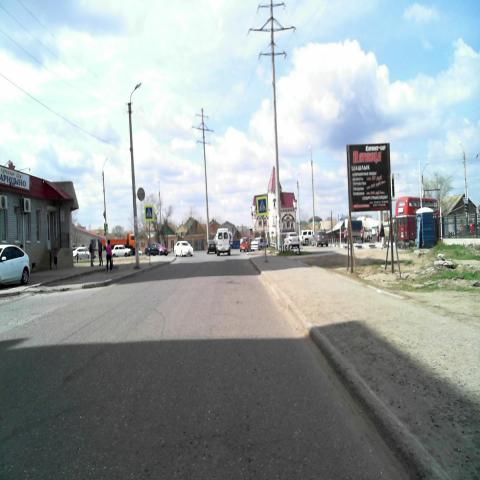5_19_1: (256, 196, 268, 215), (144, 205, 154, 221)
